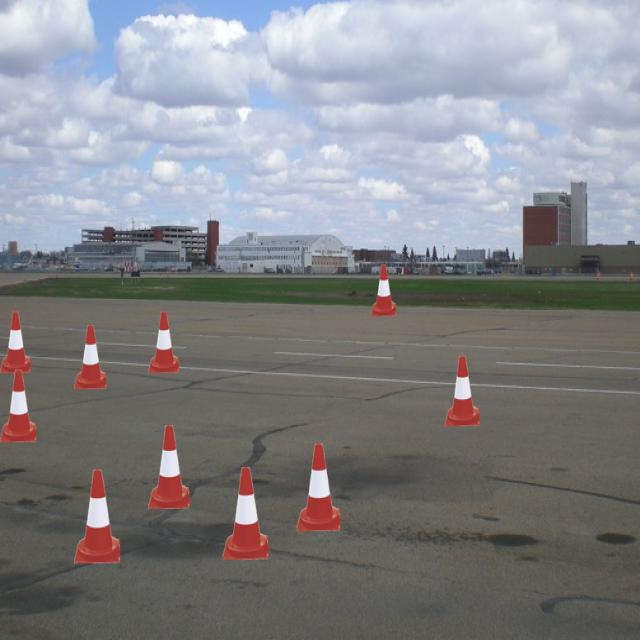orange_cone: (74, 469, 120, 564), (222, 467, 268, 560), (297, 444, 340, 531), (148, 425, 190, 509), (0, 370, 36, 442), (445, 356, 479, 426), (74, 325, 106, 389), (148, 311, 179, 373), (0, 311, 30, 373), (371, 264, 396, 316)
